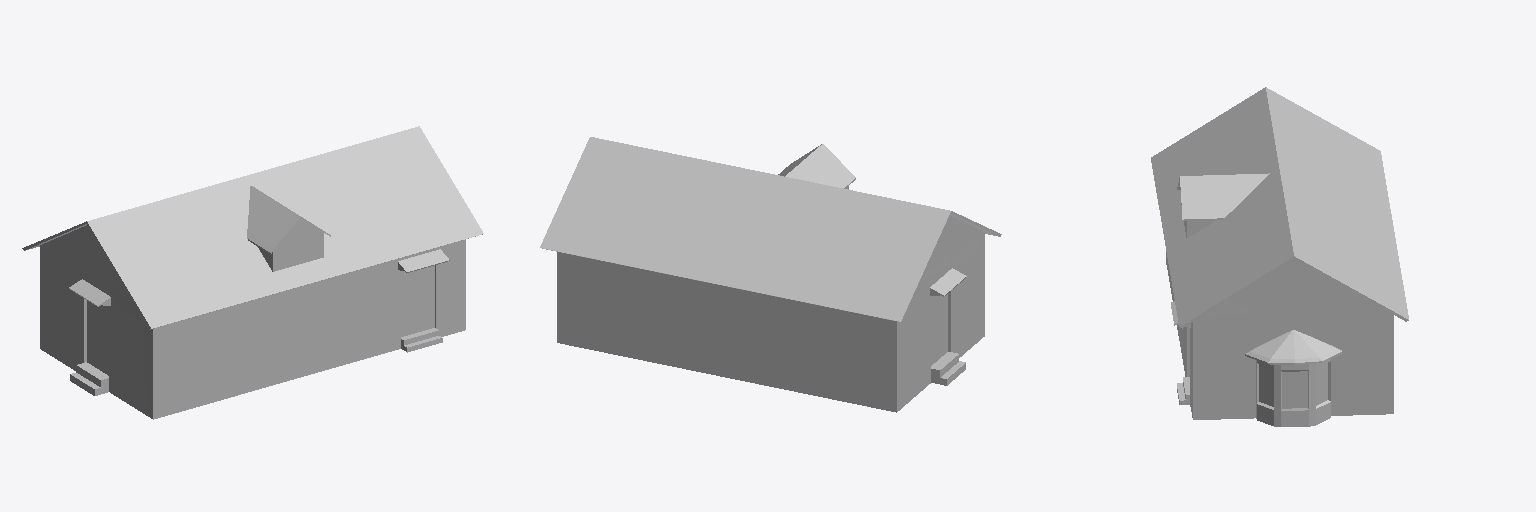
3 renders of one model, left to right at view 1: azimuth 30°, elevation 25°; view 2: azimuth 150°, elevation 25°; view 3: azimuth 270°, elevation 25°, orthographic.
Visible parts, largest first — view 1: Cott_Cube; view 2: Cott_Cube; view 3: Cott_Cube.
Part boxes in pixels (x1,y1,x2,y2): Cott_Cube: (22,126,483,419); Cott_Cube: (540,137,1001,412); Cott_Cube: (1151,87,1408,426).
Bounding box in the file's own units: 186 × 80.33 × 114.